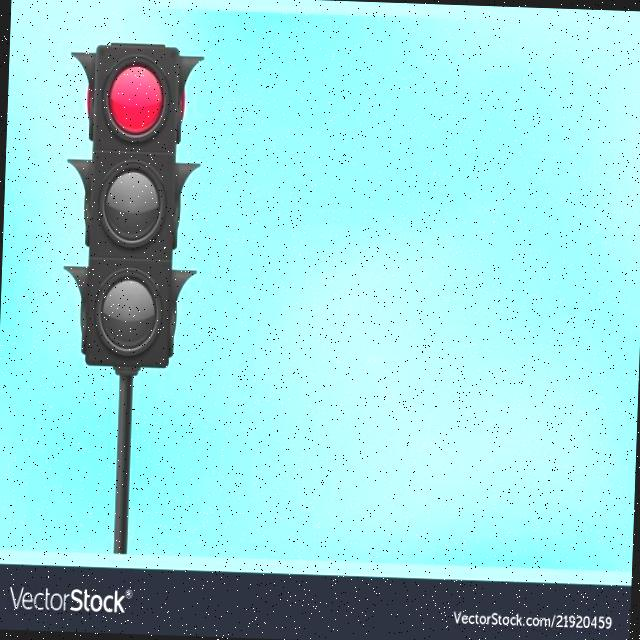Czerwone swiatlo: (82, 45, 180, 367)
